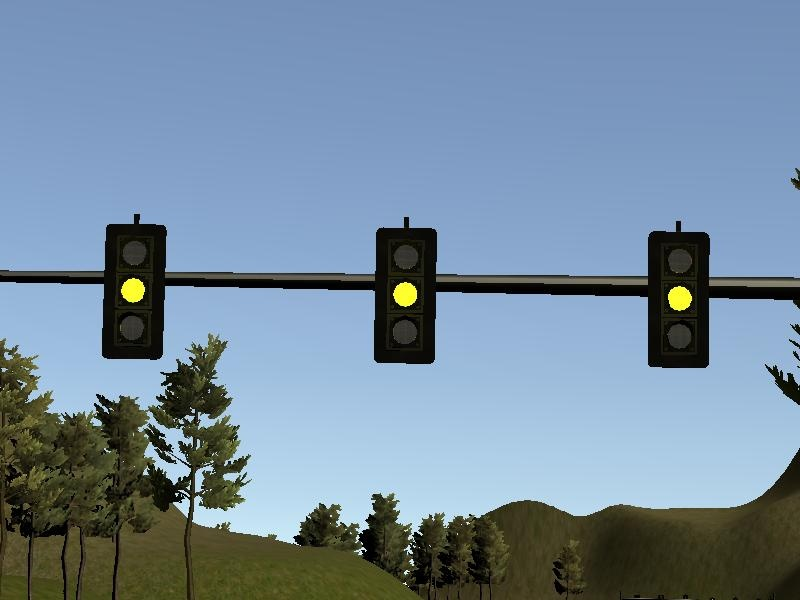YELLOW: (100, 223, 166, 361), (371, 227, 437, 365), (644, 231, 710, 369)
